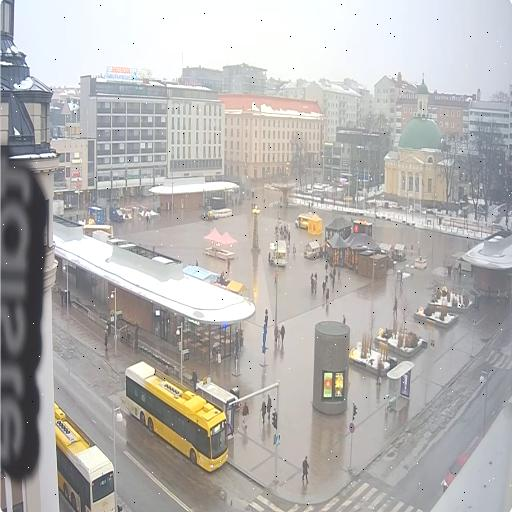Bus: (126, 361, 228, 471), (54, 402, 116, 511)
